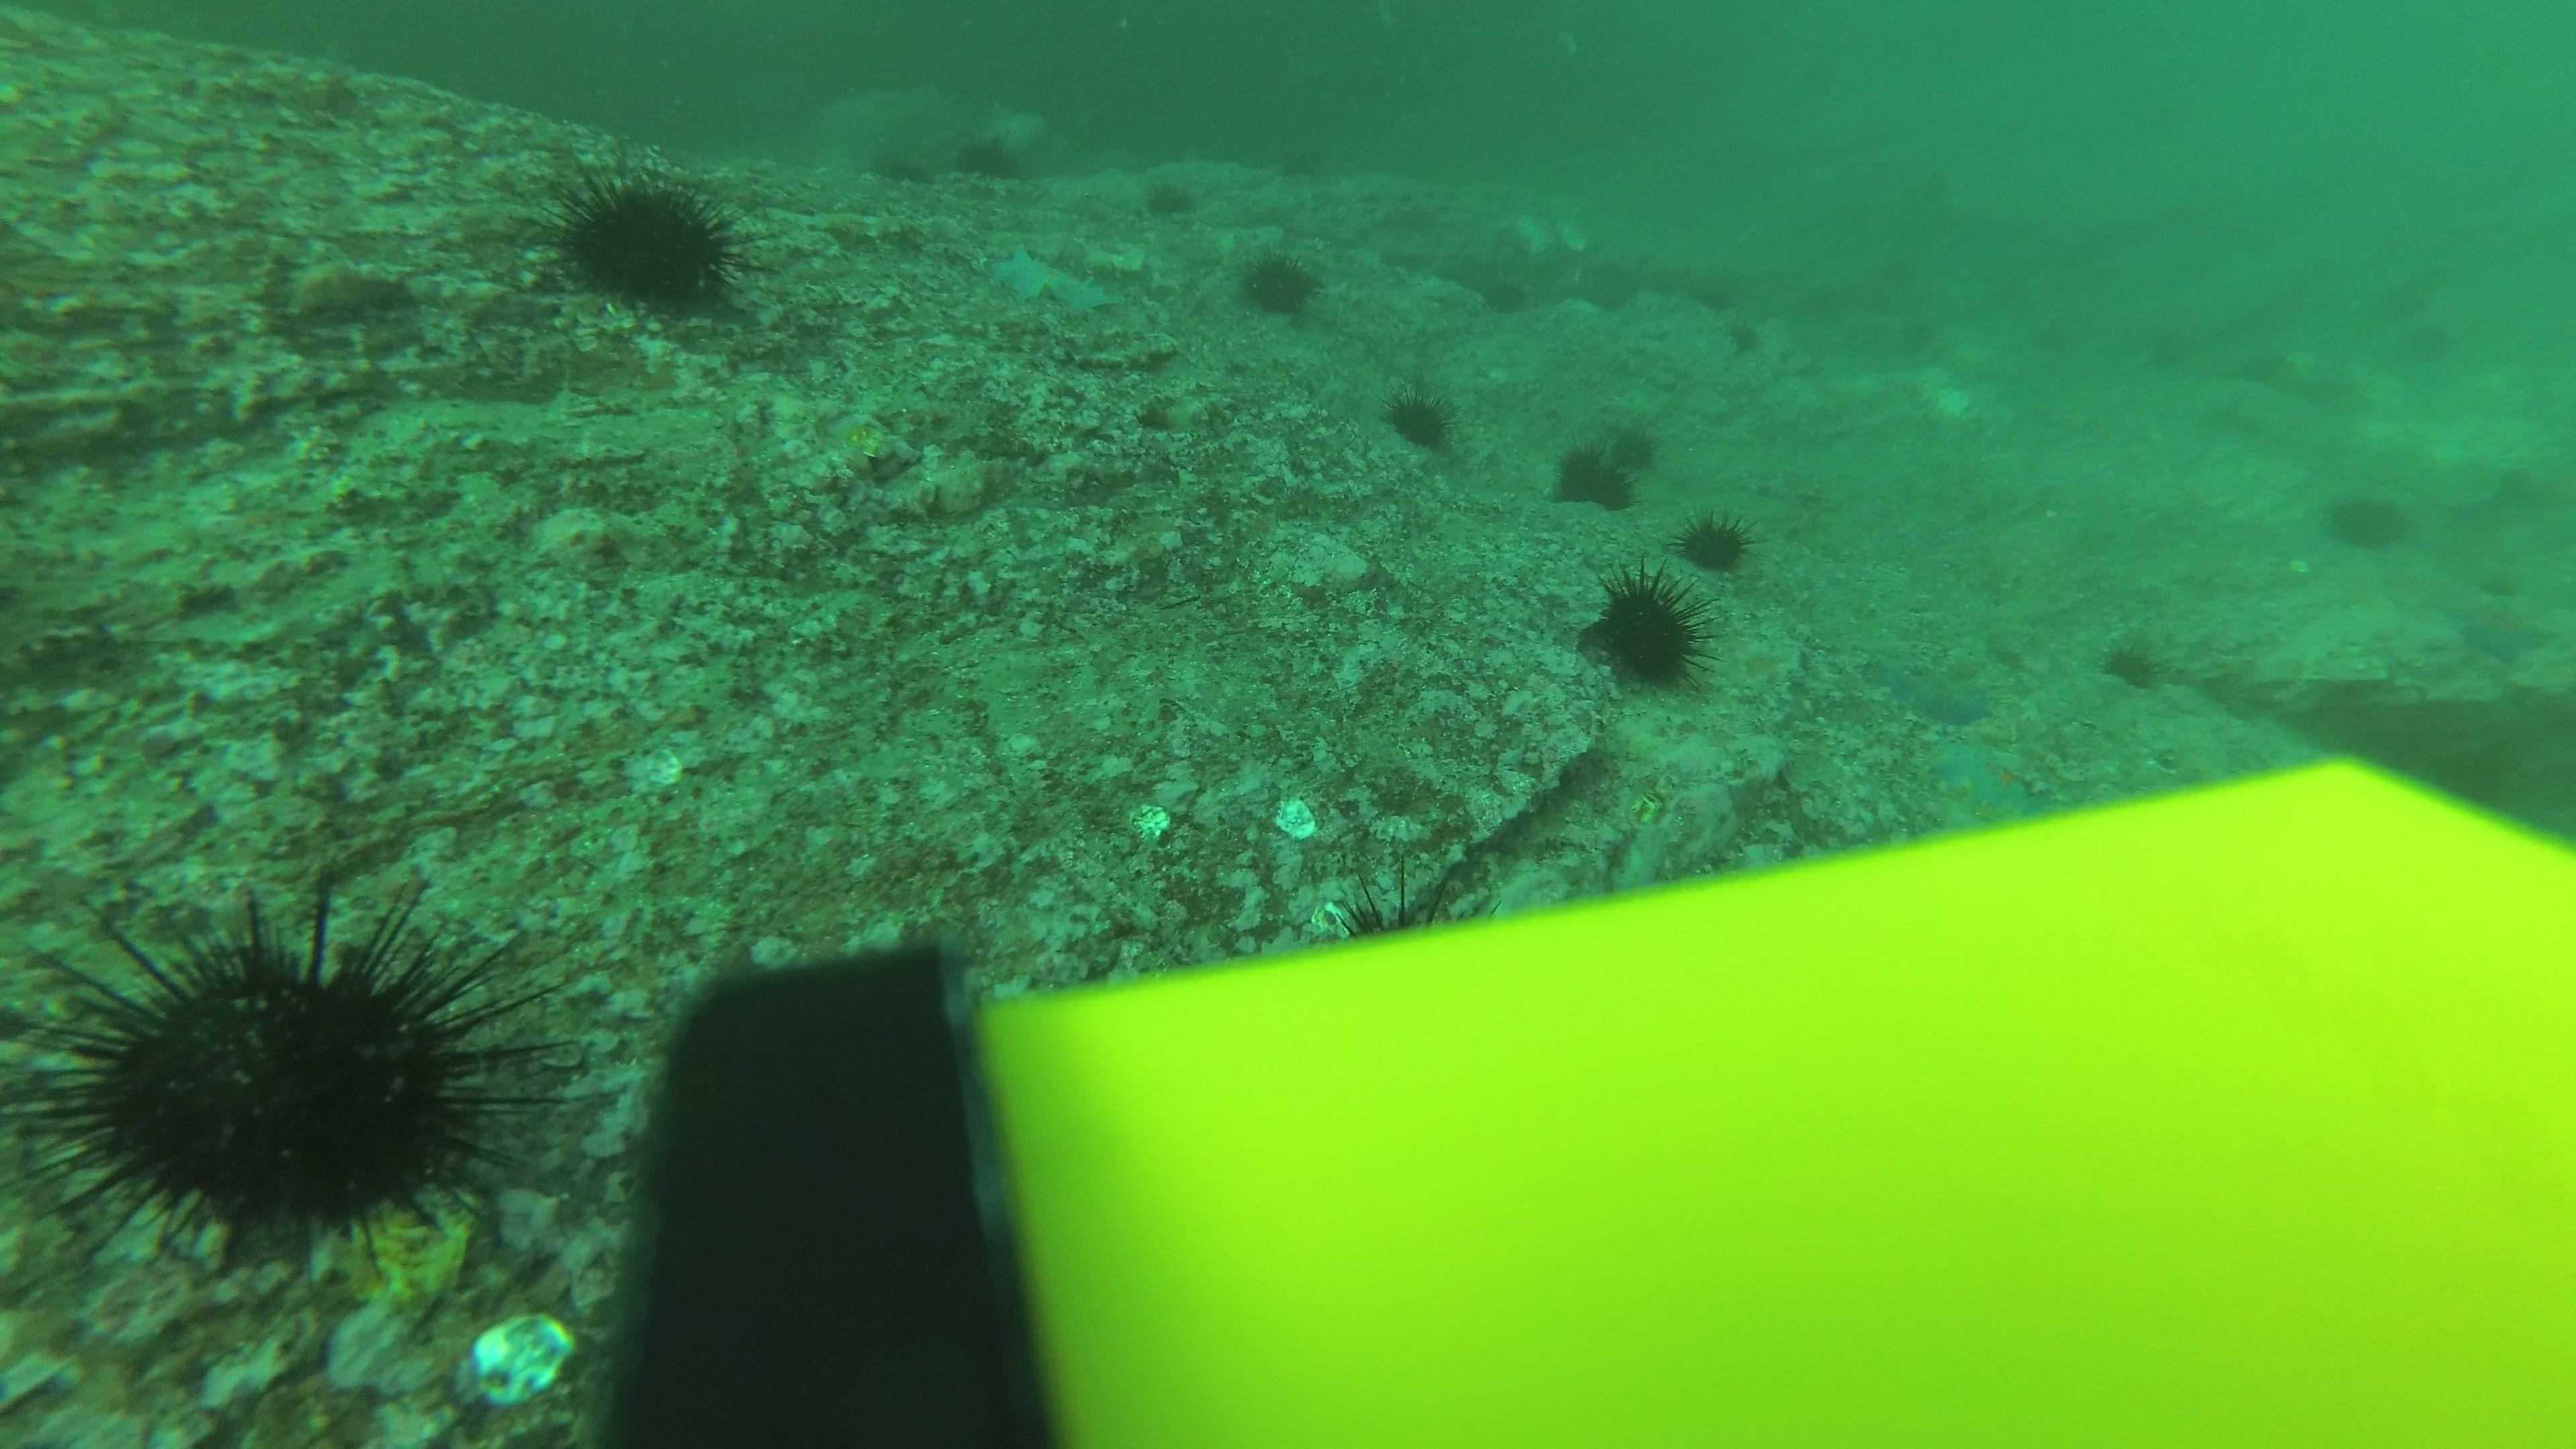echinus: (23, 885, 561, 1274), (548, 166, 747, 317), (1582, 566, 1711, 694), (1235, 244, 1322, 318), (2321, 483, 2410, 554), (1384, 382, 1458, 453), (1677, 506, 1755, 573), (1596, 465, 1667, 531), (1552, 446, 1621, 511), (1599, 419, 1668, 485), (1472, 267, 1541, 333), (2098, 630, 2167, 692), (954, 127, 1024, 182), (865, 142, 931, 188), (1900, 318, 1955, 370), (1870, 246, 1925, 297), (1980, 265, 2035, 317), (2135, 320, 2190, 372), (2408, 318, 2463, 370), (2367, 276, 2422, 327), (1718, 313, 1771, 364), (2015, 306, 2068, 357), (1279, 142, 1332, 193), (1141, 173, 1196, 223)
starfish: (980, 235, 1122, 318), (1865, 649, 2001, 731), (1921, 732, 2043, 816), (2443, 593, 2560, 669)
